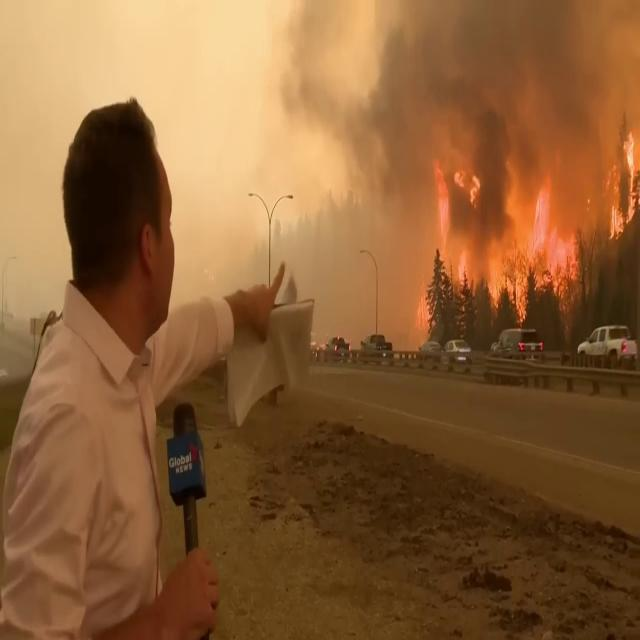Fire: (419, 147, 579, 319), (608, 122, 640, 241)
Smoke: (272, 1, 638, 292)
